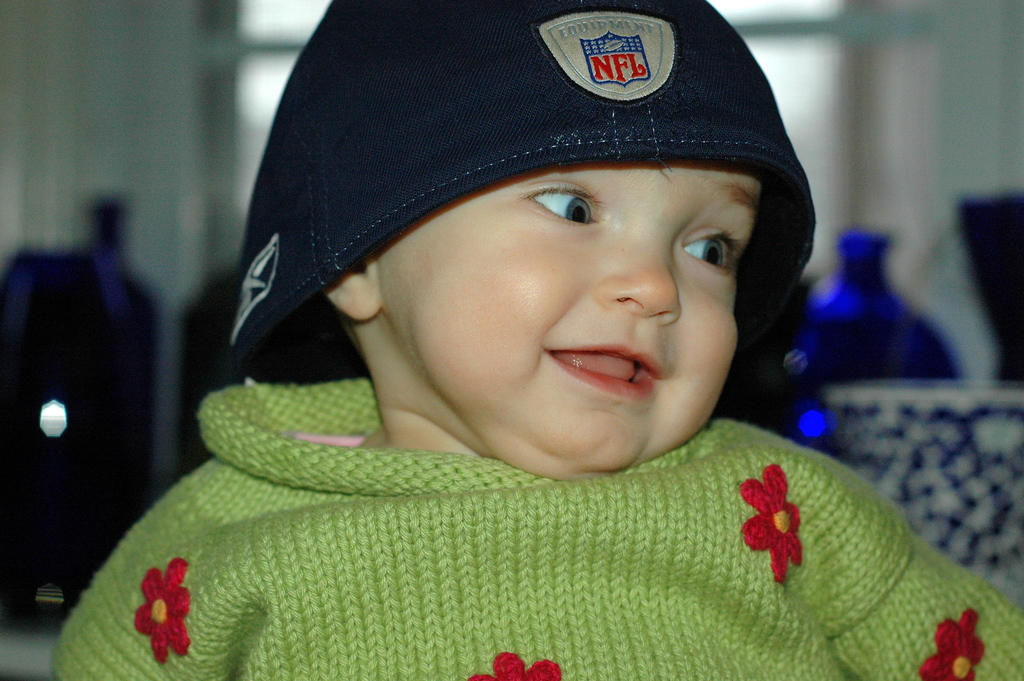Person: (47, 0, 1024, 681)
